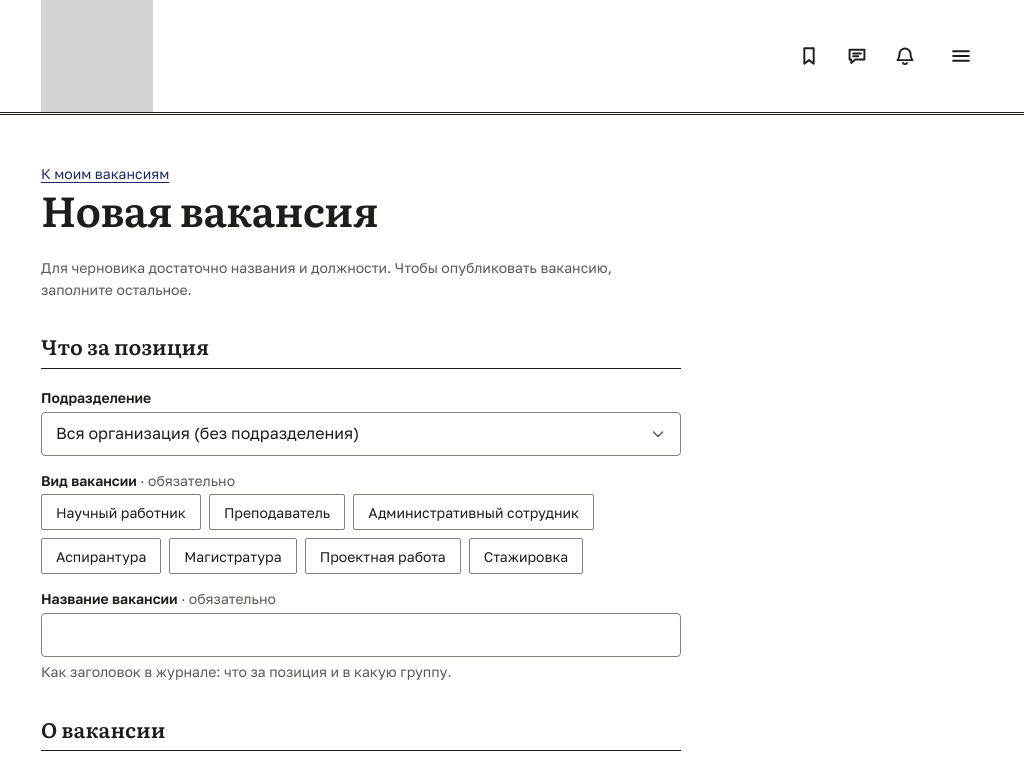
Test: new vacancy form › saves a draft with only a title and a position, and opens it
Click the button "Научный работник": (121,512) [41,494,201,530]
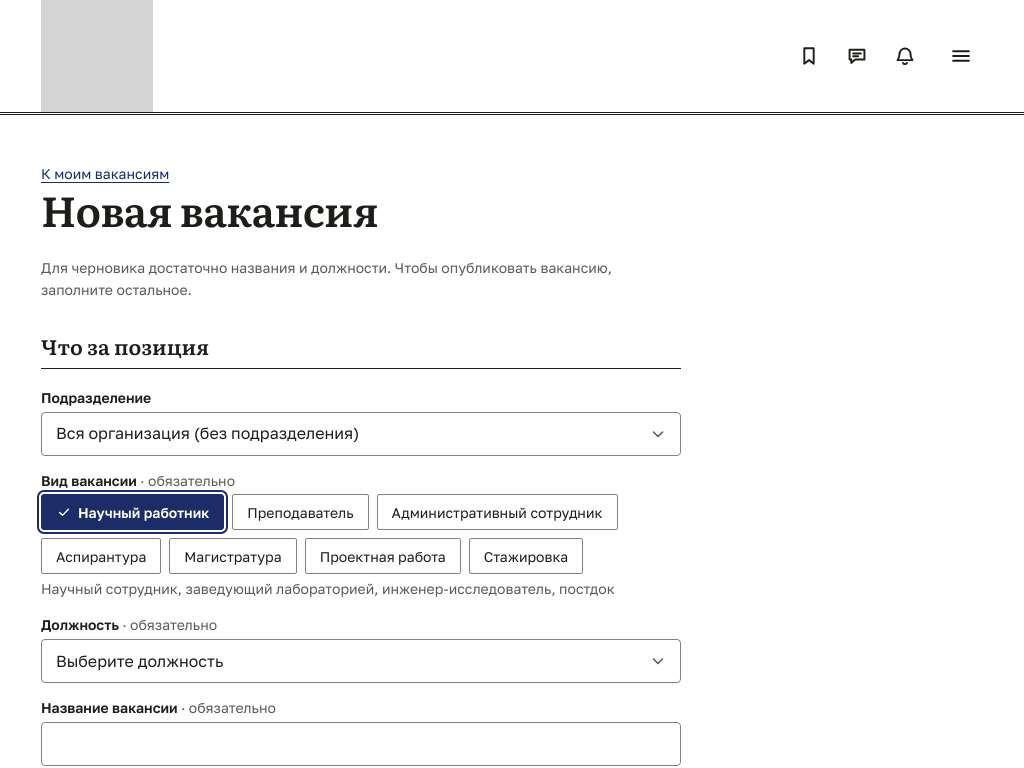
Select "Старший научный сотрудник" in the dropdown labelled "Должность · обязательно": (361,661) [41,639,681,683]
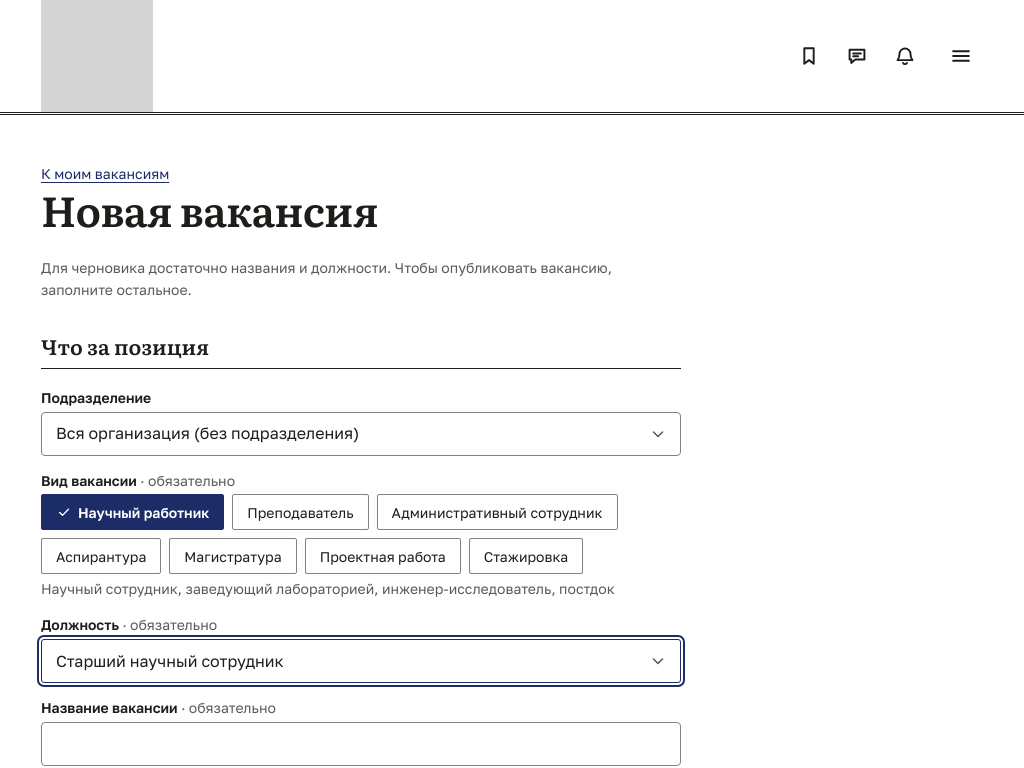
In the field labelled "Название вакансии · обязательно": (361,744) [41,722,681,766], type "Старший научный сотрудник в лабораторию"
(page scrolled)
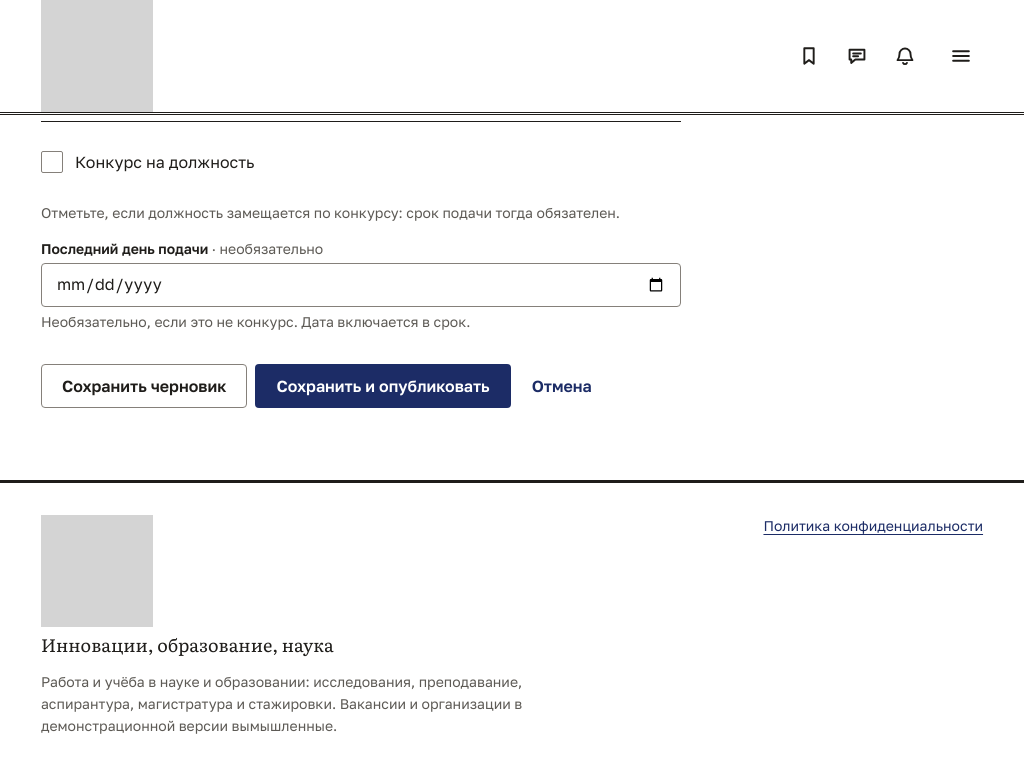
Click the button "Сохранить черновик": (144,386) [41,364,248,408]
(page scrolled)
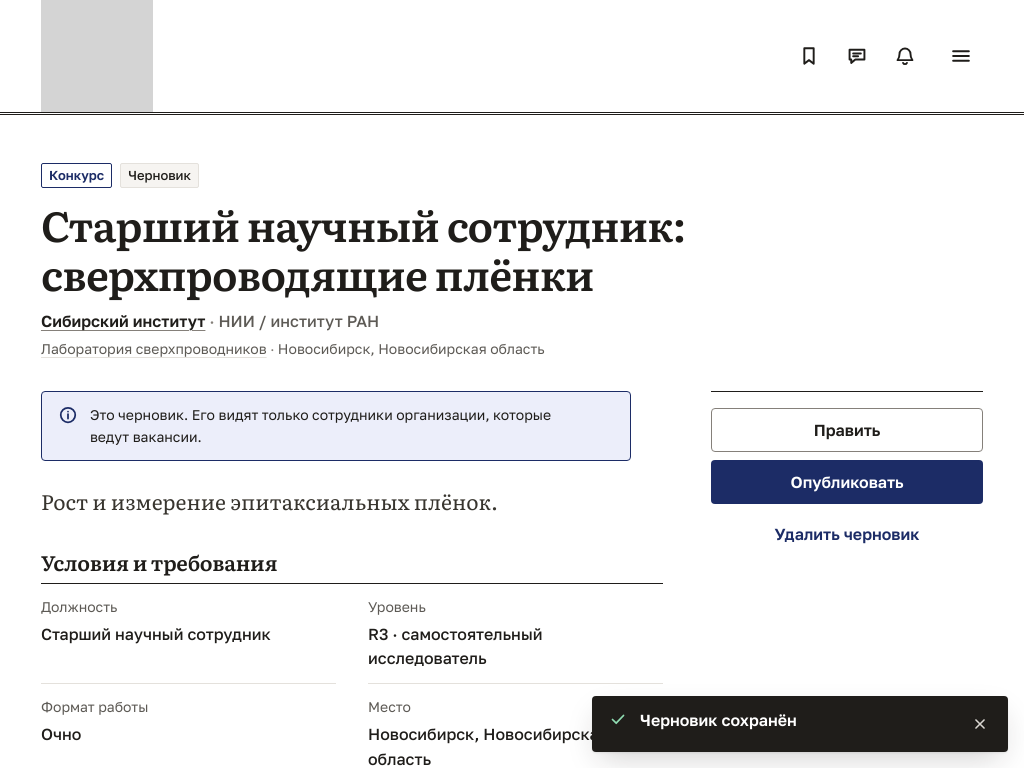
Result: the text "Черновик сохранён" is shown at [640,710,797,730]
